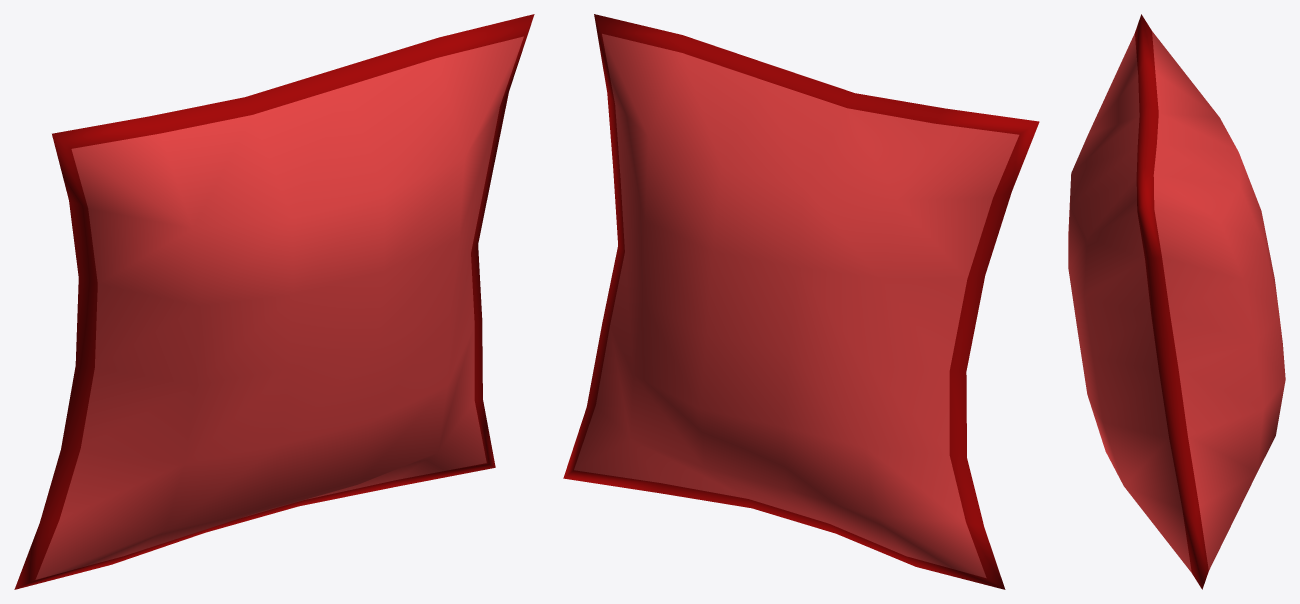
The model's file is Pillow_1.fbx.
The picture shows the model from 3 angles, left to right: view 1: azimuth 30°, elevation 25°; view 2: azimuth 150°, elevation 25°; view 3: azimuth 270°, elevation 25°; orthographic projection. The views are drawn at different scales.
Parts seen in each view (by area): view 1: Pillow_1; view 2: Pillow_1; view 3: Pillow_1.
Part boxes in pixels (bbox=[...]): Pillow_1: bbox=[14, 14, 534, 589]; Pillow_1: bbox=[563, 14, 1039, 589]; Pillow_1: bbox=[1068, 14, 1285, 589].
Size of the model in its own units: 4.81 by 4.59 by 2.32.
